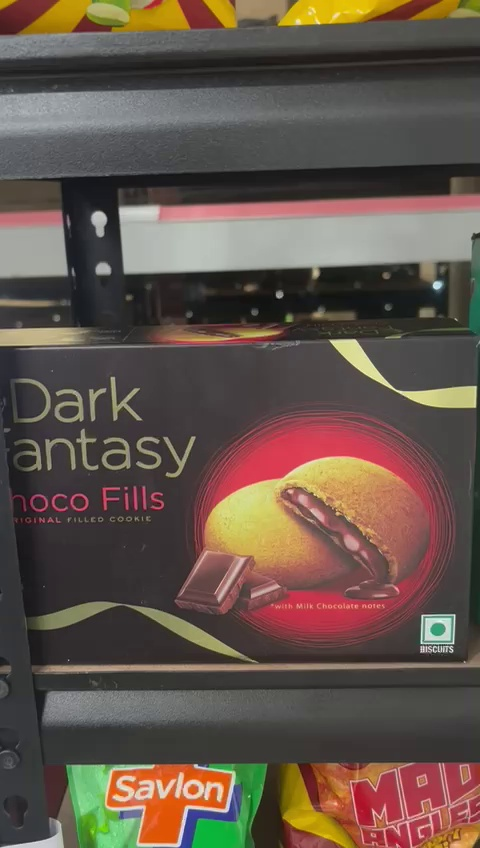Dark Fantasy: (0, 328, 480, 664)
